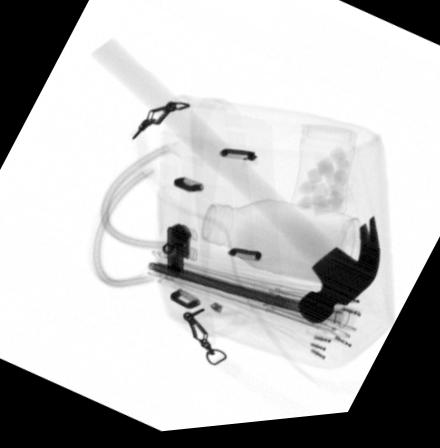Hammer: (90, 39, 381, 331)
